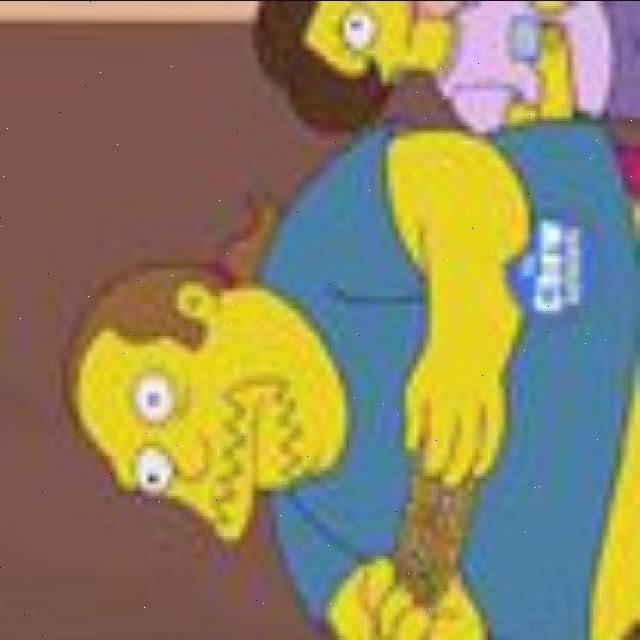Comic Book Guy: (64, 262, 352, 544)
